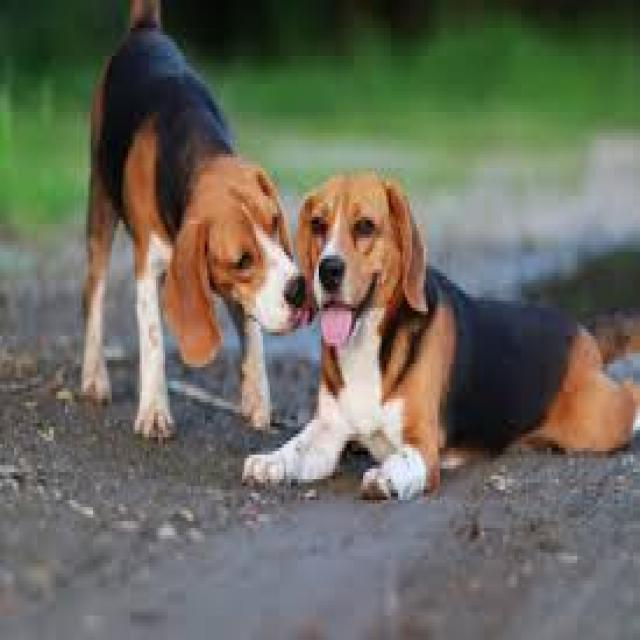Dog: (240, 168, 640, 505), (60, 1, 308, 449)
